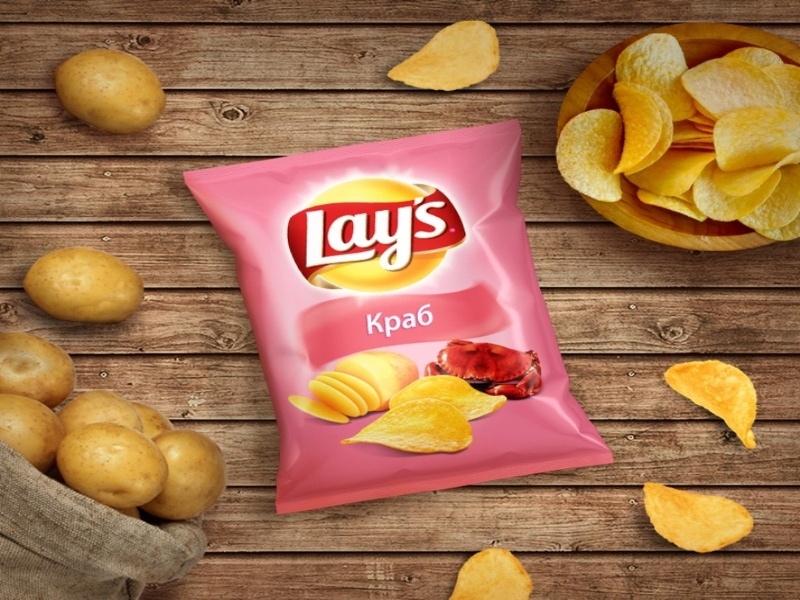chips: (178, 137, 624, 512)
